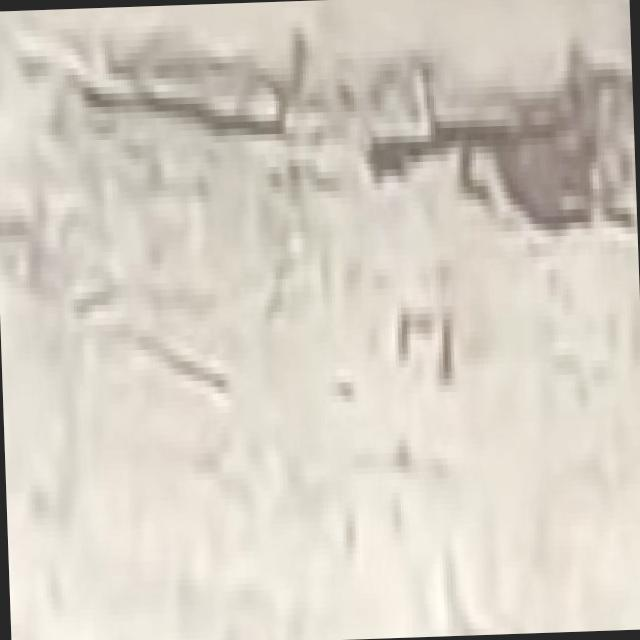crack: (99, 41, 268, 132)
